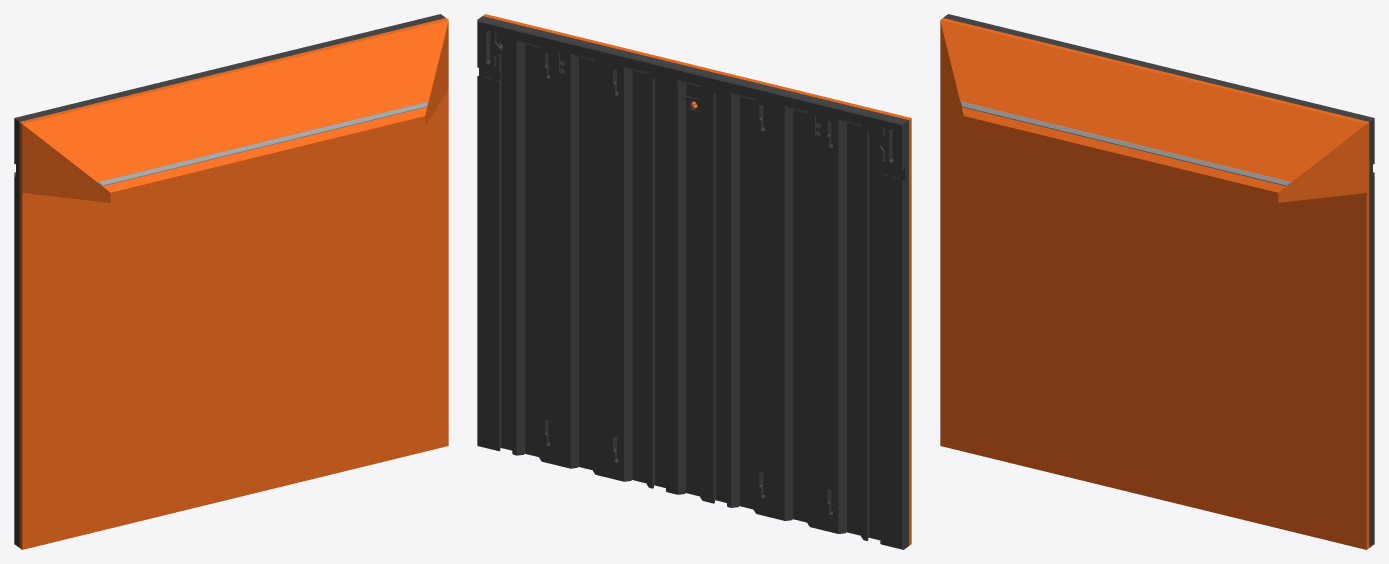
File: Faceplate_ClassicDecor_2W-3H.lib.glb
3 renders of one model, left to right at view 1: azimuth 30°, elevation 25°; view 2: azimuth 150°, elevation 25°; view 3: azimuth 330°, elevation 25°, orthographic.
Parts seen in each view (by area): view 1: Faceplate_ClassicDecor_2W-3H; view 2: Faceplate_ClassicDecor_2W-3H; view 3: Faceplate_ClassicDecor_2W-3H.
Part boxes in pixels (bbox=[...]): Faceplate_ClassicDecor_2W-3H: bbox=[14, 14, 448, 549]; Faceplate_ClassicDecor_2W-3H: bbox=[477, 14, 911, 549]; Faceplate_ClassicDecor_2W-3H: bbox=[940, 14, 1374, 549].
Bounding box in the file's own units: 175 × 167 × 29.2.
